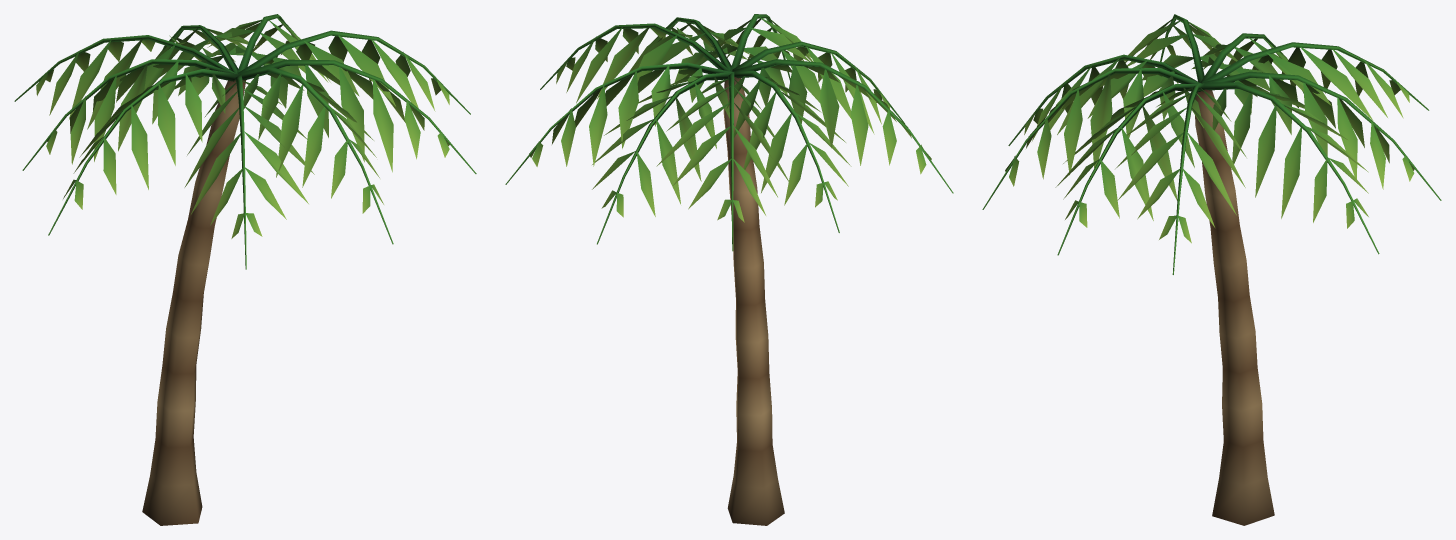
The model's file is tree-palm-far-v3.glb.
The picture shows the model from 3 angles, left to right: view 1: azimuth 30°, elevation 25°; view 2: azimuth 150°, elevation 25°; view 3: azimuth 270°, elevation 25°; orthographic projection. The views are drawn at different scales.
Parts seen in each view (by area): view 1: 1_leaves, 0_trunk; view 2: 1_leaves, 0_trunk; view 3: 1_leaves, 0_trunk.
Boxes of the visible parts, <box> form: 1_leaves: <box>14,14,476,269</box>; 0_trunk: <box>142,80,246,525</box>; 1_leaves: <box>505,14,953,251</box>; 0_trunk: <box>723,77,784,525</box>; 1_leaves: <box>982,14,1441,274</box>; 0_trunk: <box>1195,89,1274,525</box>.
Bounding box in the file's own units: 5.65 × 5.89 × 5.15.
